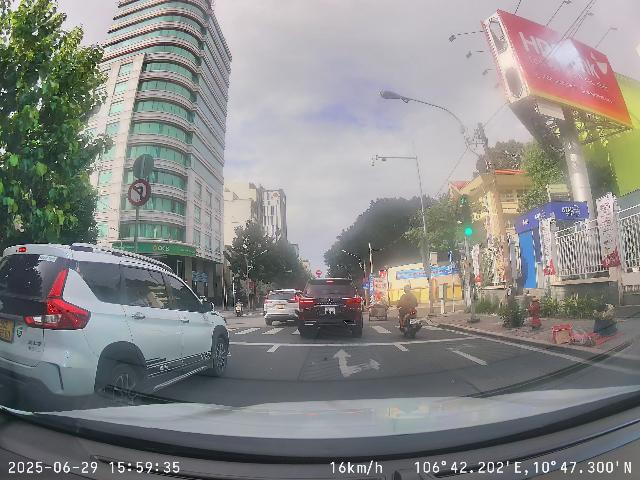123a-cam-re-trai: (128, 179, 152, 206)
